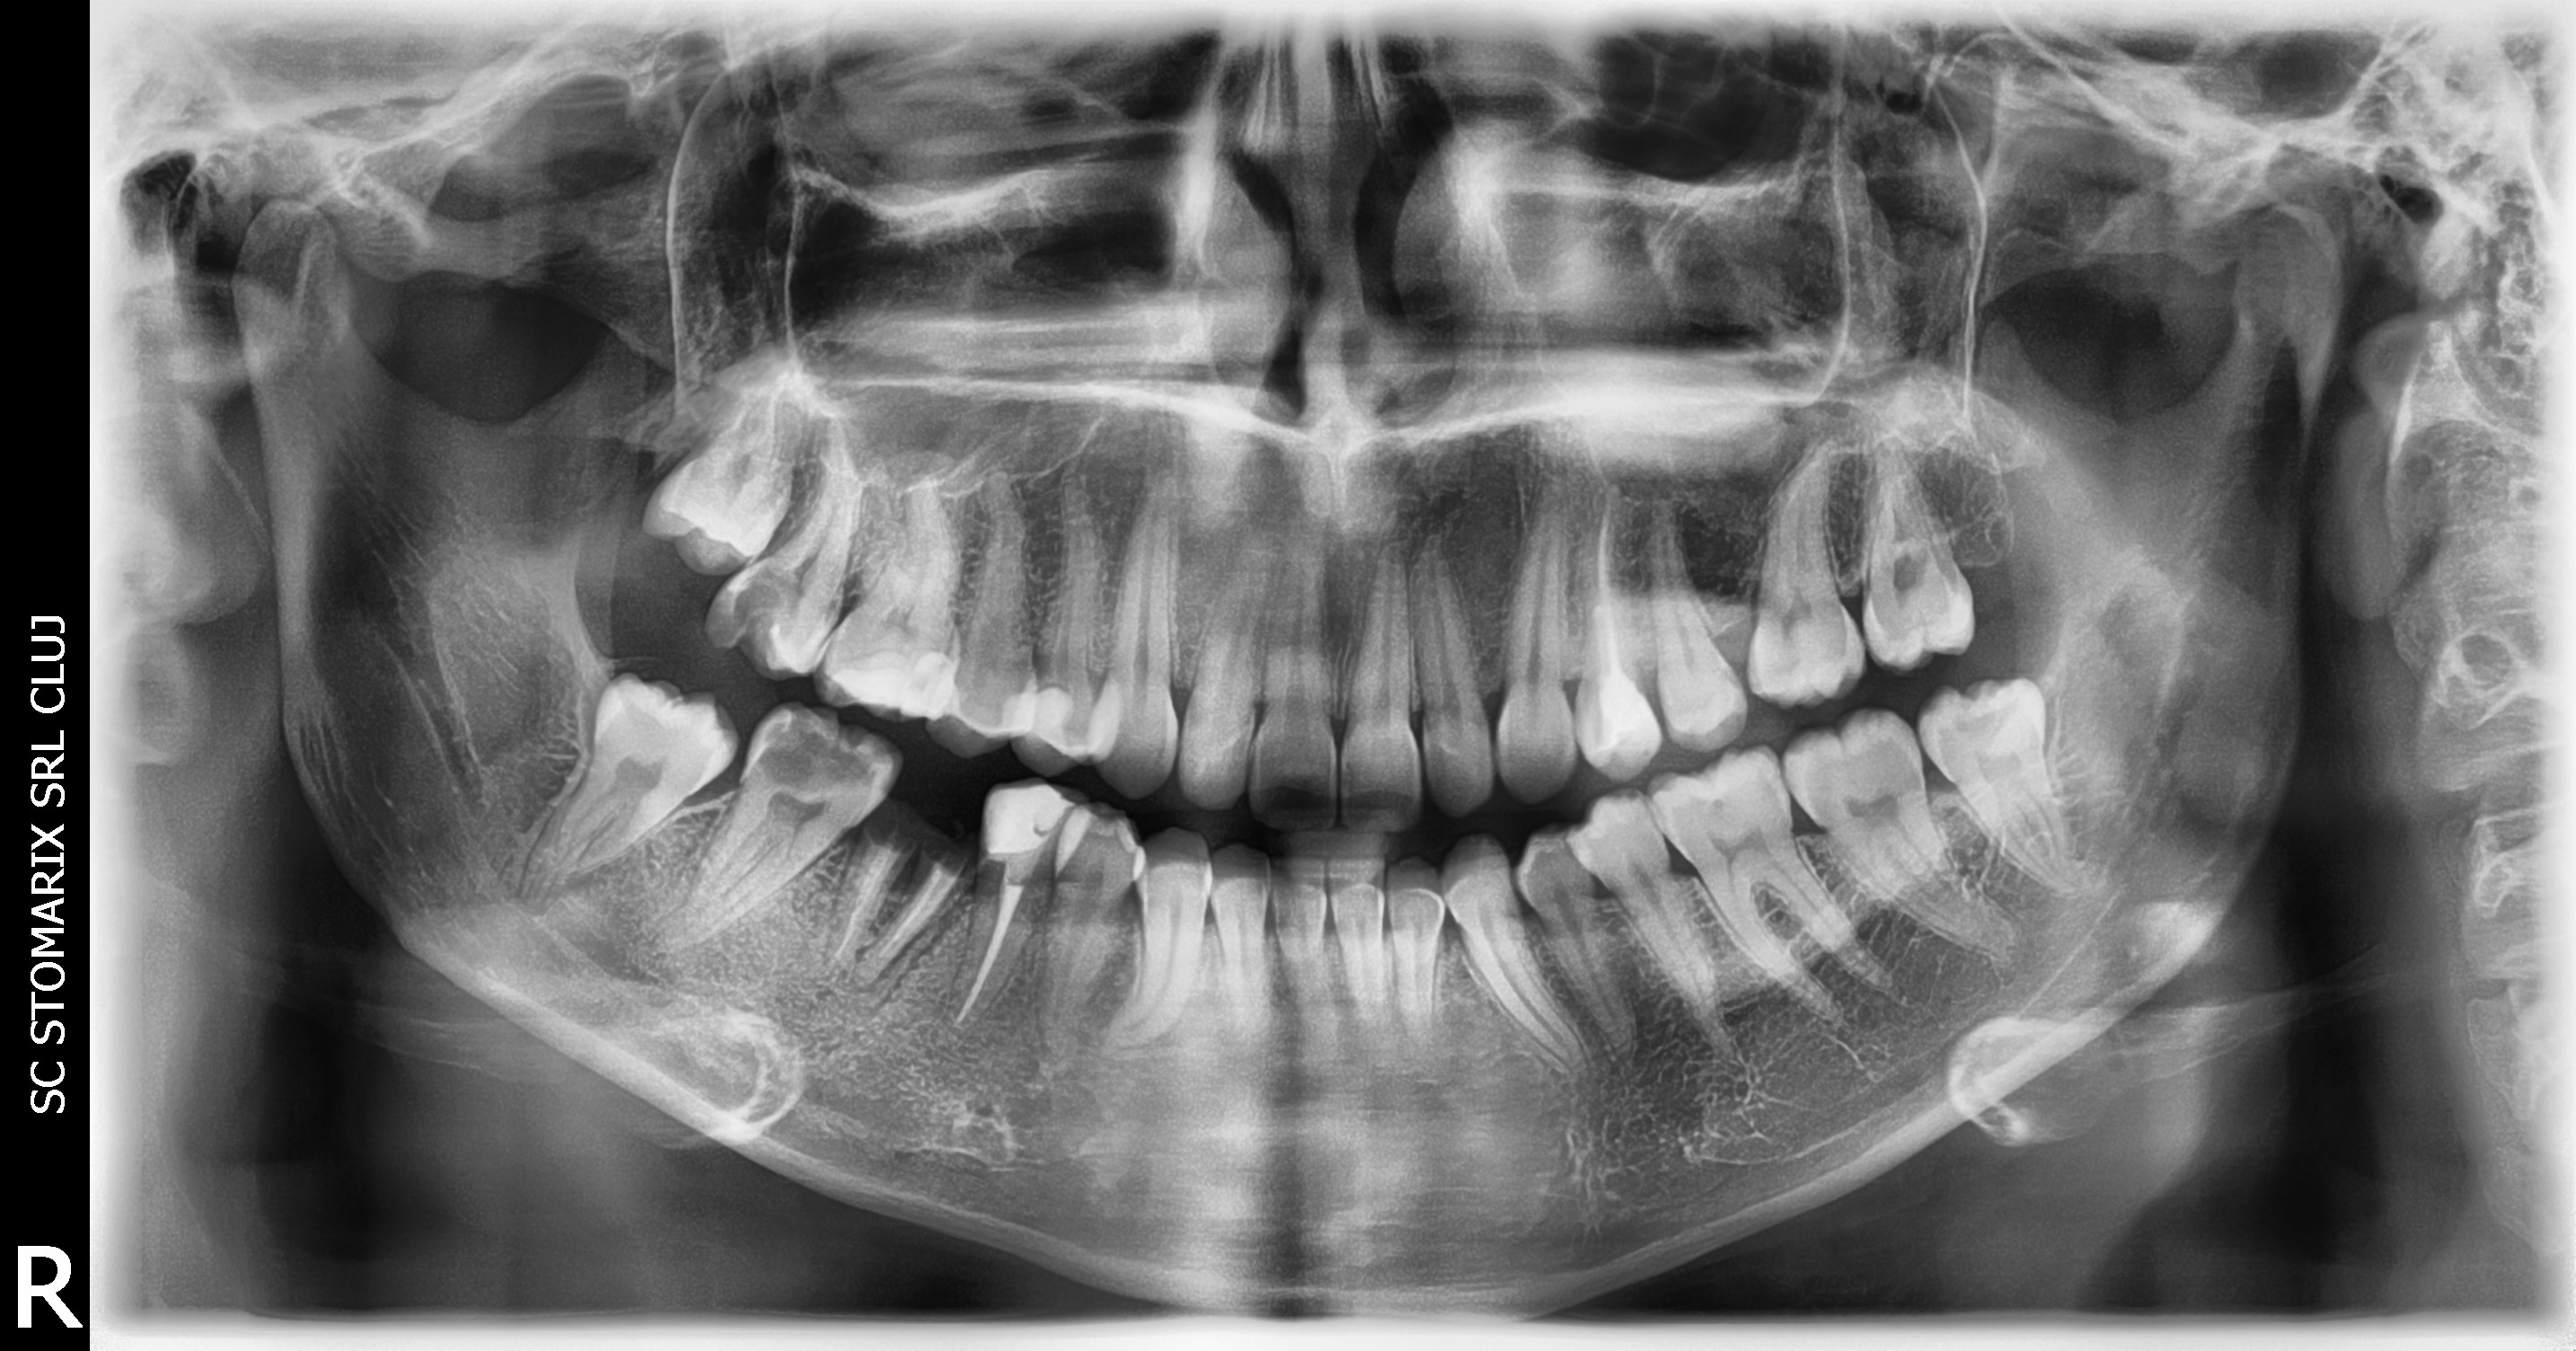API: (838, 947, 905, 993)
CAR: (760, 719, 874, 790)
END: (1595, 486, 1624, 683)
OBT: (830, 651, 959, 717)
ROT: (825, 796, 975, 983)
